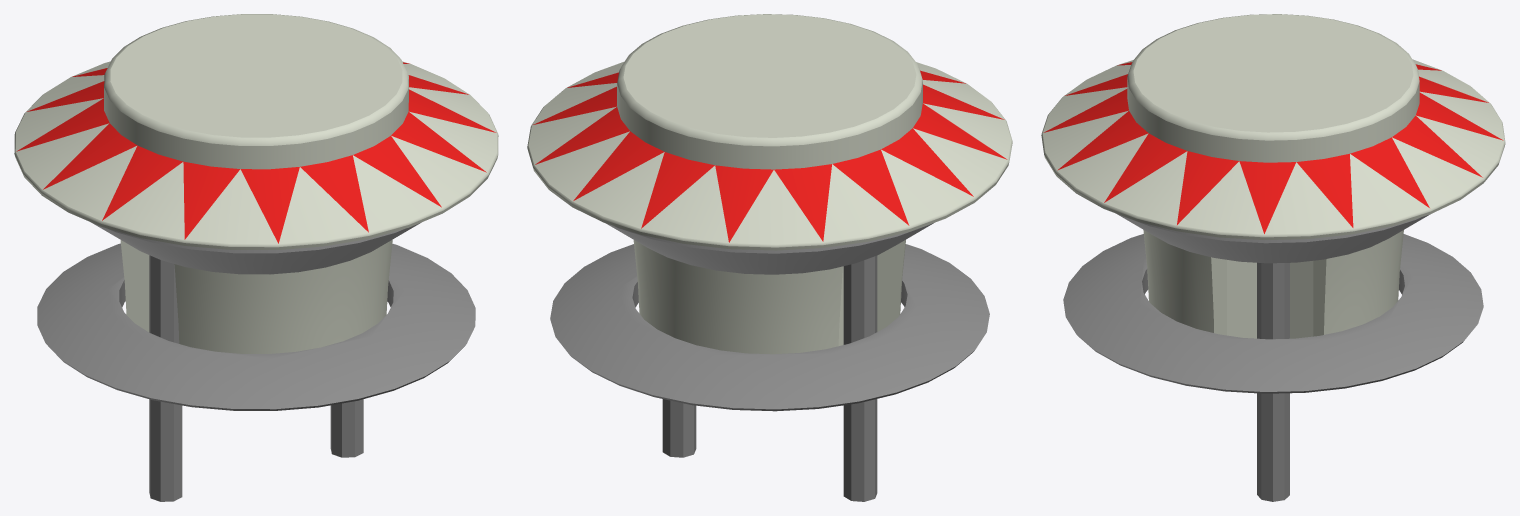
File: pop bumper.fbx
3 views of the same model, side by side, from view 1: azimuth 30°, elevation 25°; view 2: azimuth 150°, elevation 25°; view 3: azimuth 270°, elevation 25° (orthographic). The views are drawn at different scales.
Parts seen in each view (by area): view 1: pop bumper; view 2: pop bumper; view 3: pop bumper.
Part boxes in pixels (left/top/right/bottom): pop bumper: left=14, top=14, right=498, bottom=501; pop bumper: left=527, top=14, right=1012, bottom=501; pop bumper: left=1041, top=14, right=1505, bottom=501.
Size of the model in its own units: 0.0762 by 0.0687 by 0.0762.
